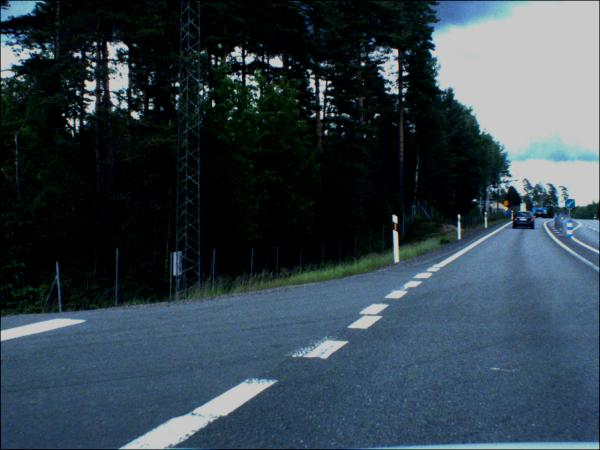100_SIGN: (504, 202, 510, 208)
PASS_RIGHT_SIDE: (565, 200, 576, 211)
PRIORITY_ROAD: (503, 208, 509, 213)
